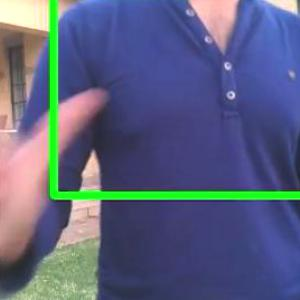land_hand: (0, 69, 112, 272)
